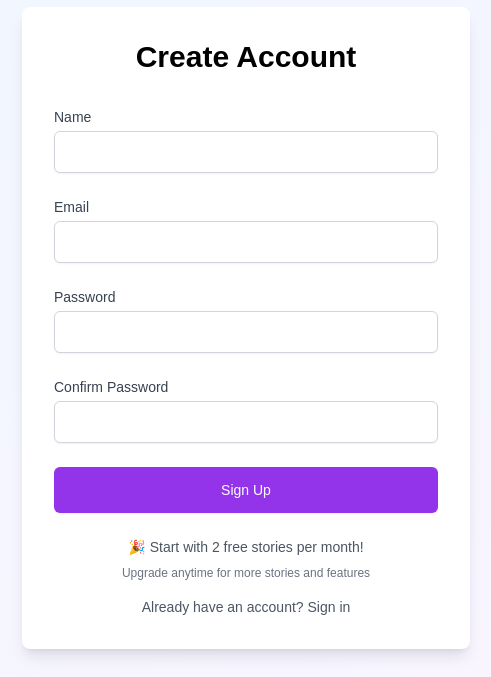
Test case: RegisterPage › should disable form while registering
The image size is (491, 677).
Type "Test User" into the field labelled "Name" at (246,152), box [54, 131, 438, 173]
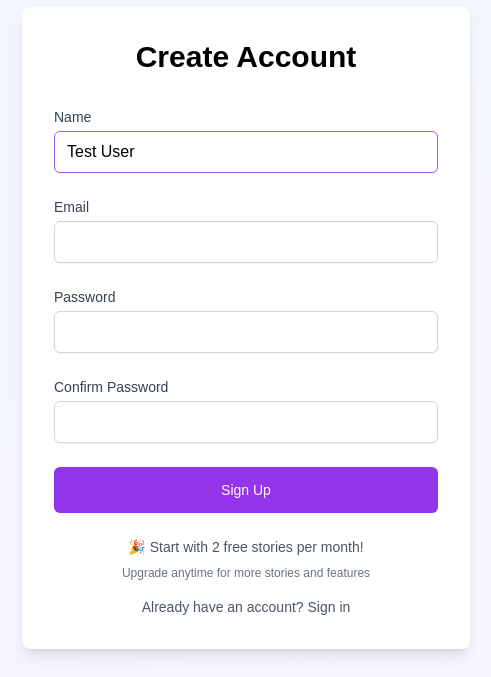
Type "test@example.com" into the field labelled "Email" at (246,242), box [54, 221, 438, 263]
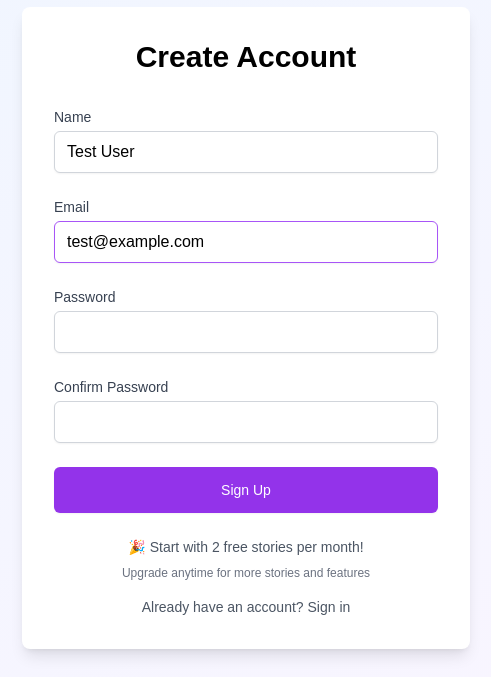
Type "password123" into the password field labelled "Password" at (246,332), box [54, 311, 438, 353]
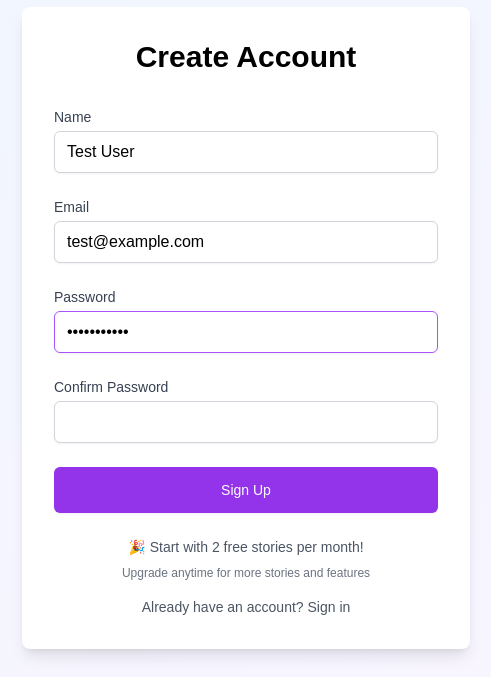
Type "password123" into the password field labelled "Confirm Password" at (246,422), box [54, 401, 438, 443]
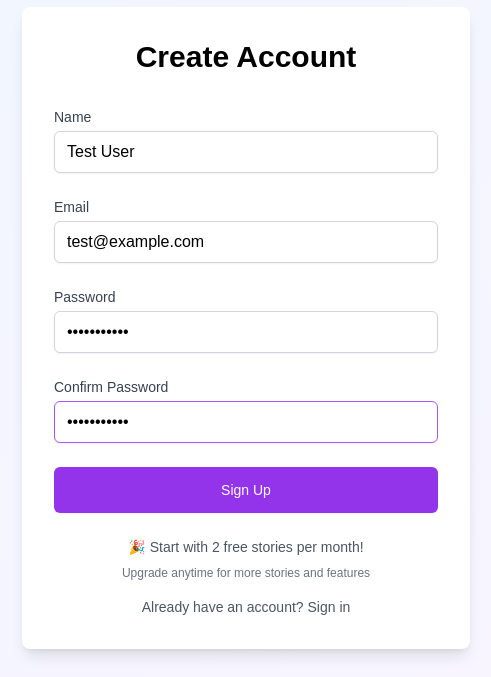
Click the button "Sign Up" at (246,490), box [54, 467, 438, 513]
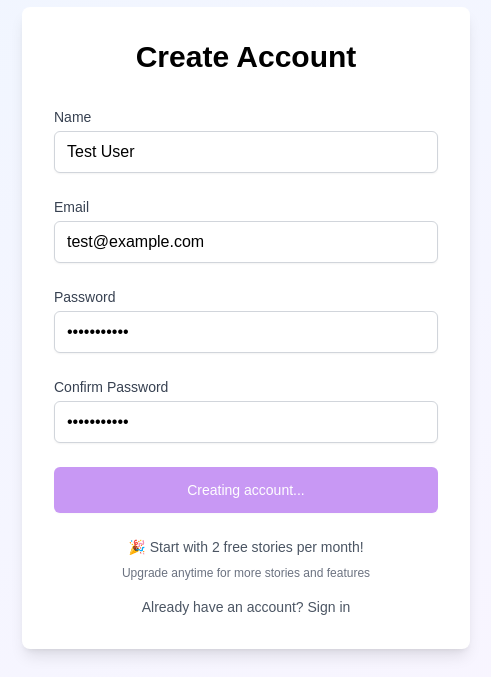
Check: the button named "Sign Up" reads "Creating account...", box [54, 467, 438, 513]
Check: the button named "Sign Up" is disabled, box [54, 467, 438, 513]
